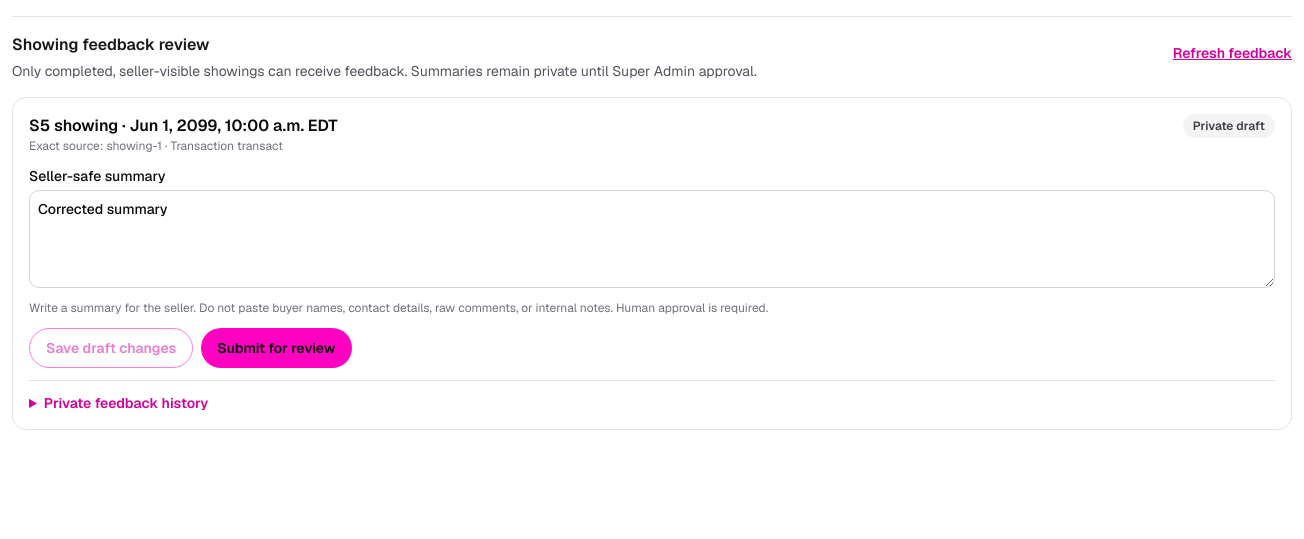
Test: Super Admin cannot approve a corrected private draft until it is submitted again
What coordinates should you click on to do the following:
click the button "Submit for review"
I would click on:
 (276, 348)
Its box is [201,328,352,368].
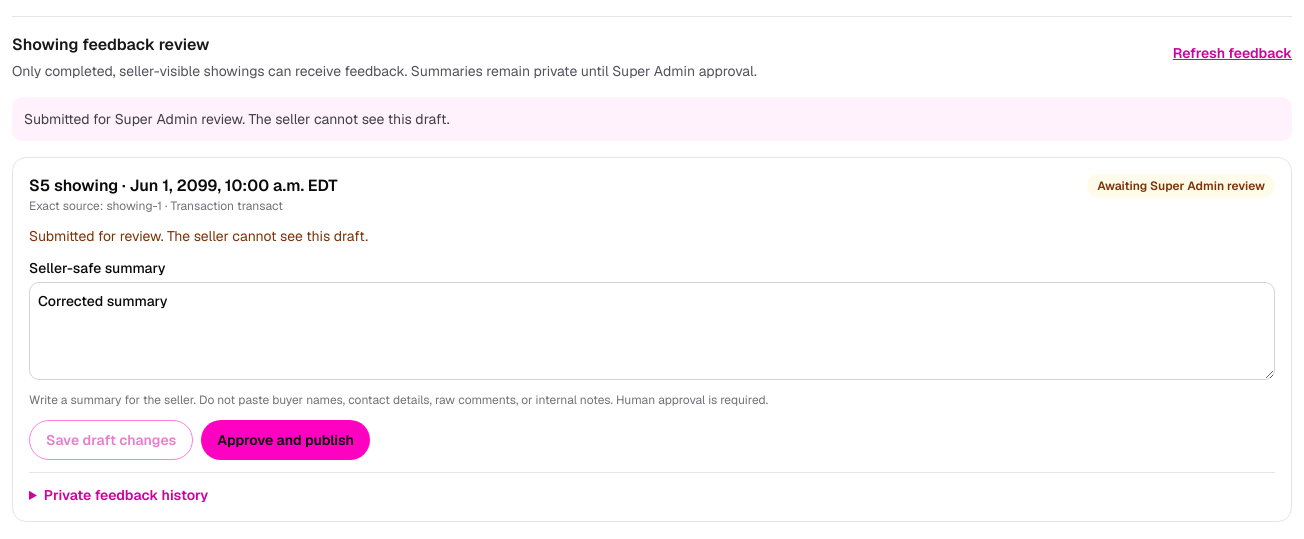
Now the button "Approve and publish" is shown, box [201,420,370,460]
